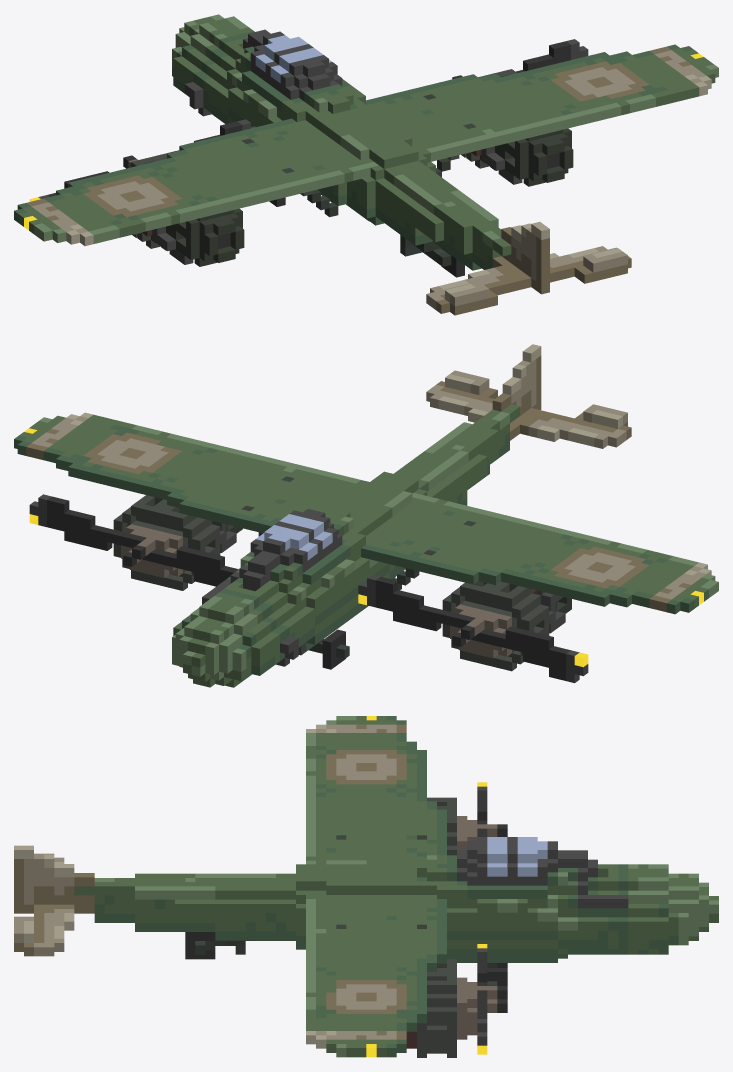
3 renders of one model, top to bottom at view 1: azimuth 30°, elevation 25°; view 2: azimuth 150°, elevation 25°; view 3: azimuth 270°, elevation 25°, orthographic.
Visible parts, largest first — view 1: Untitled; view 2: Untitled; view 3: Untitled.
Part boxes in pixels (<box>): Untitled: <box>14,14,718,315</box>; Untitled: <box>14,344,718,687</box>; Untitled: <box>14,716,718,1057</box>.
Size of the model in its own units: 7.8 by 1.5 by 7.
2 materials, 1 textured.
